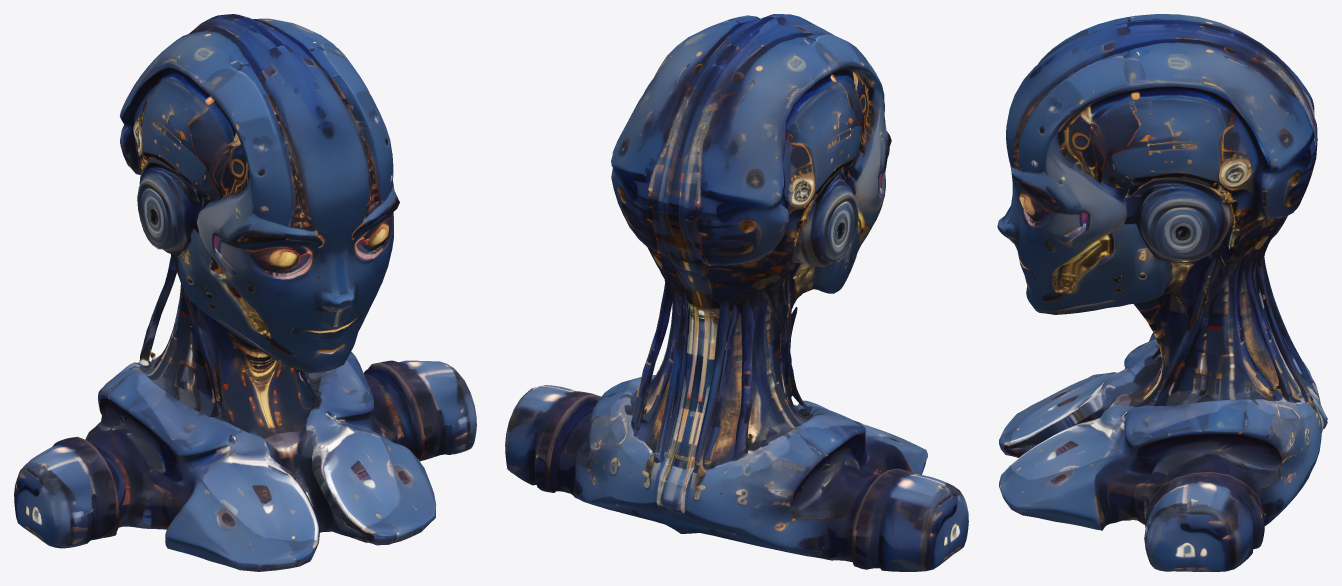
File: base_basic_shaded.glb
The picture shows the model from 3 angles, left to right: view 1: azimuth 30°, elevation 25°; view 2: azimuth 150°, elevation 25°; view 3: azimuth 270°, elevation 25°; orthographic projection. The views are drawn at different scales.
Parts seen in each view (by area): view 1: model; view 2: model; view 3: model.
Part boxes in pixels (box(x1,y1,x2,y2)): model: box(14, 14, 476, 571); model: box(505, 14, 968, 571); model: box(997, 14, 1327, 571).
Size of the model in its own units: 1.82 by 1.9 by 1.26.
1 material, 1 textured.
